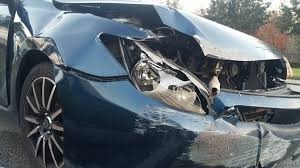Broken-glass: (131, 51, 203, 109)
Scratch: (128, 103, 271, 167)
Smashed: (82, 2, 297, 134)
